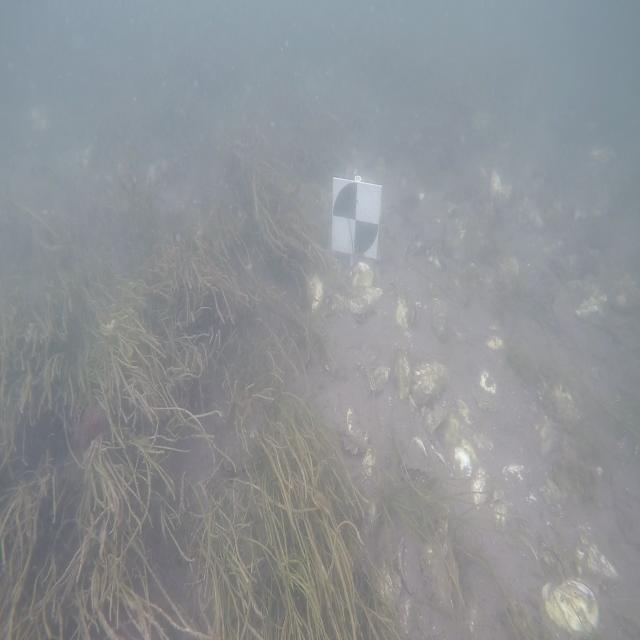Oyster- Indeterminate: (341, 409, 368, 456), (476, 371, 499, 412), (361, 447, 380, 488)
Oyster-Closed: (540, 577, 601, 639), (329, 285, 386, 326), (411, 362, 449, 404), (418, 399, 454, 436), (349, 261, 376, 293), (394, 295, 418, 330), (454, 440, 476, 478), (395, 349, 411, 400), (432, 298, 449, 339), (471, 469, 488, 504), (493, 489, 506, 529)
Oyster-Open: (376, 534, 429, 635), (401, 437, 428, 471), (367, 366, 393, 392)
